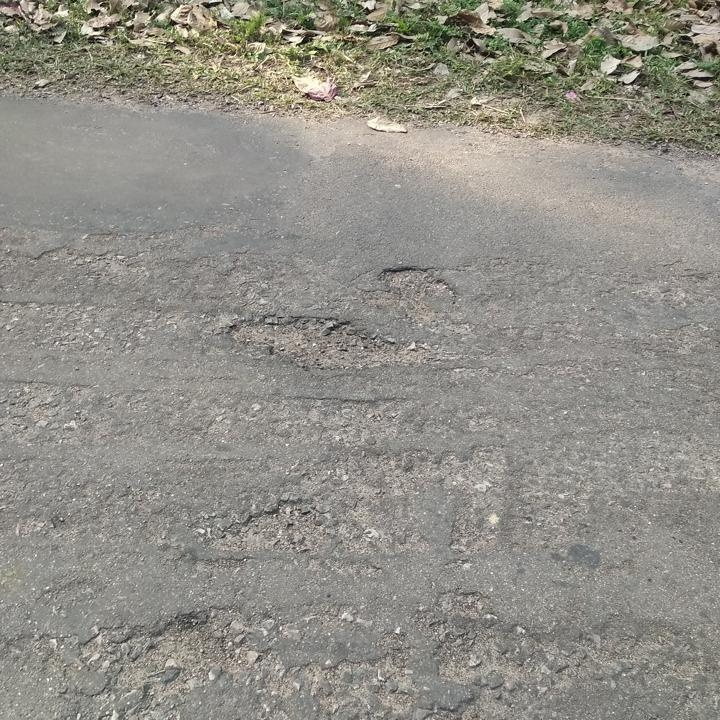pothole: (224, 311, 412, 368), (135, 606, 250, 692), (212, 495, 336, 555), (430, 627, 520, 682), (376, 260, 459, 305)
